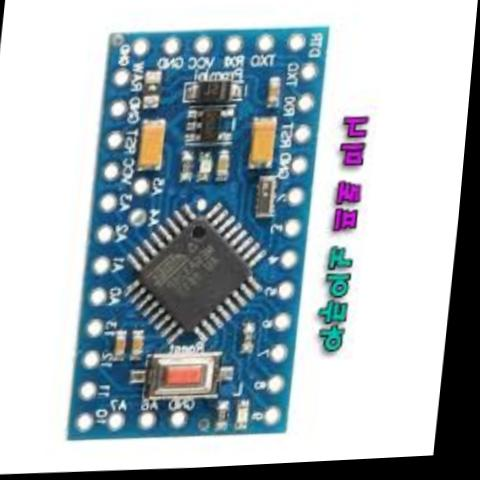Arduino-Pro-Mini: (55, 5, 349, 464)
